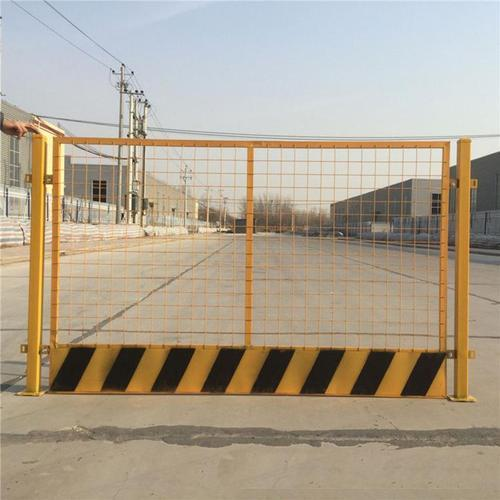sign: (25, 123, 479, 407)
